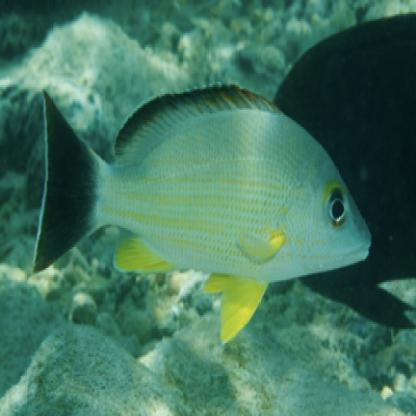snapper: (30, 76, 374, 356)
